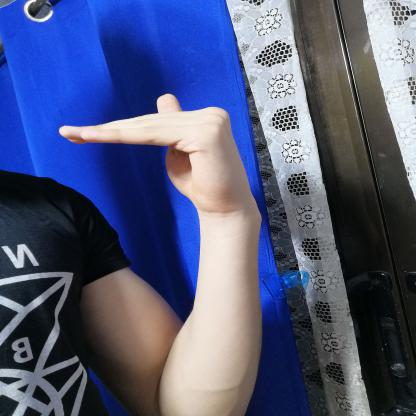KHAA: (47, 82, 270, 222)
